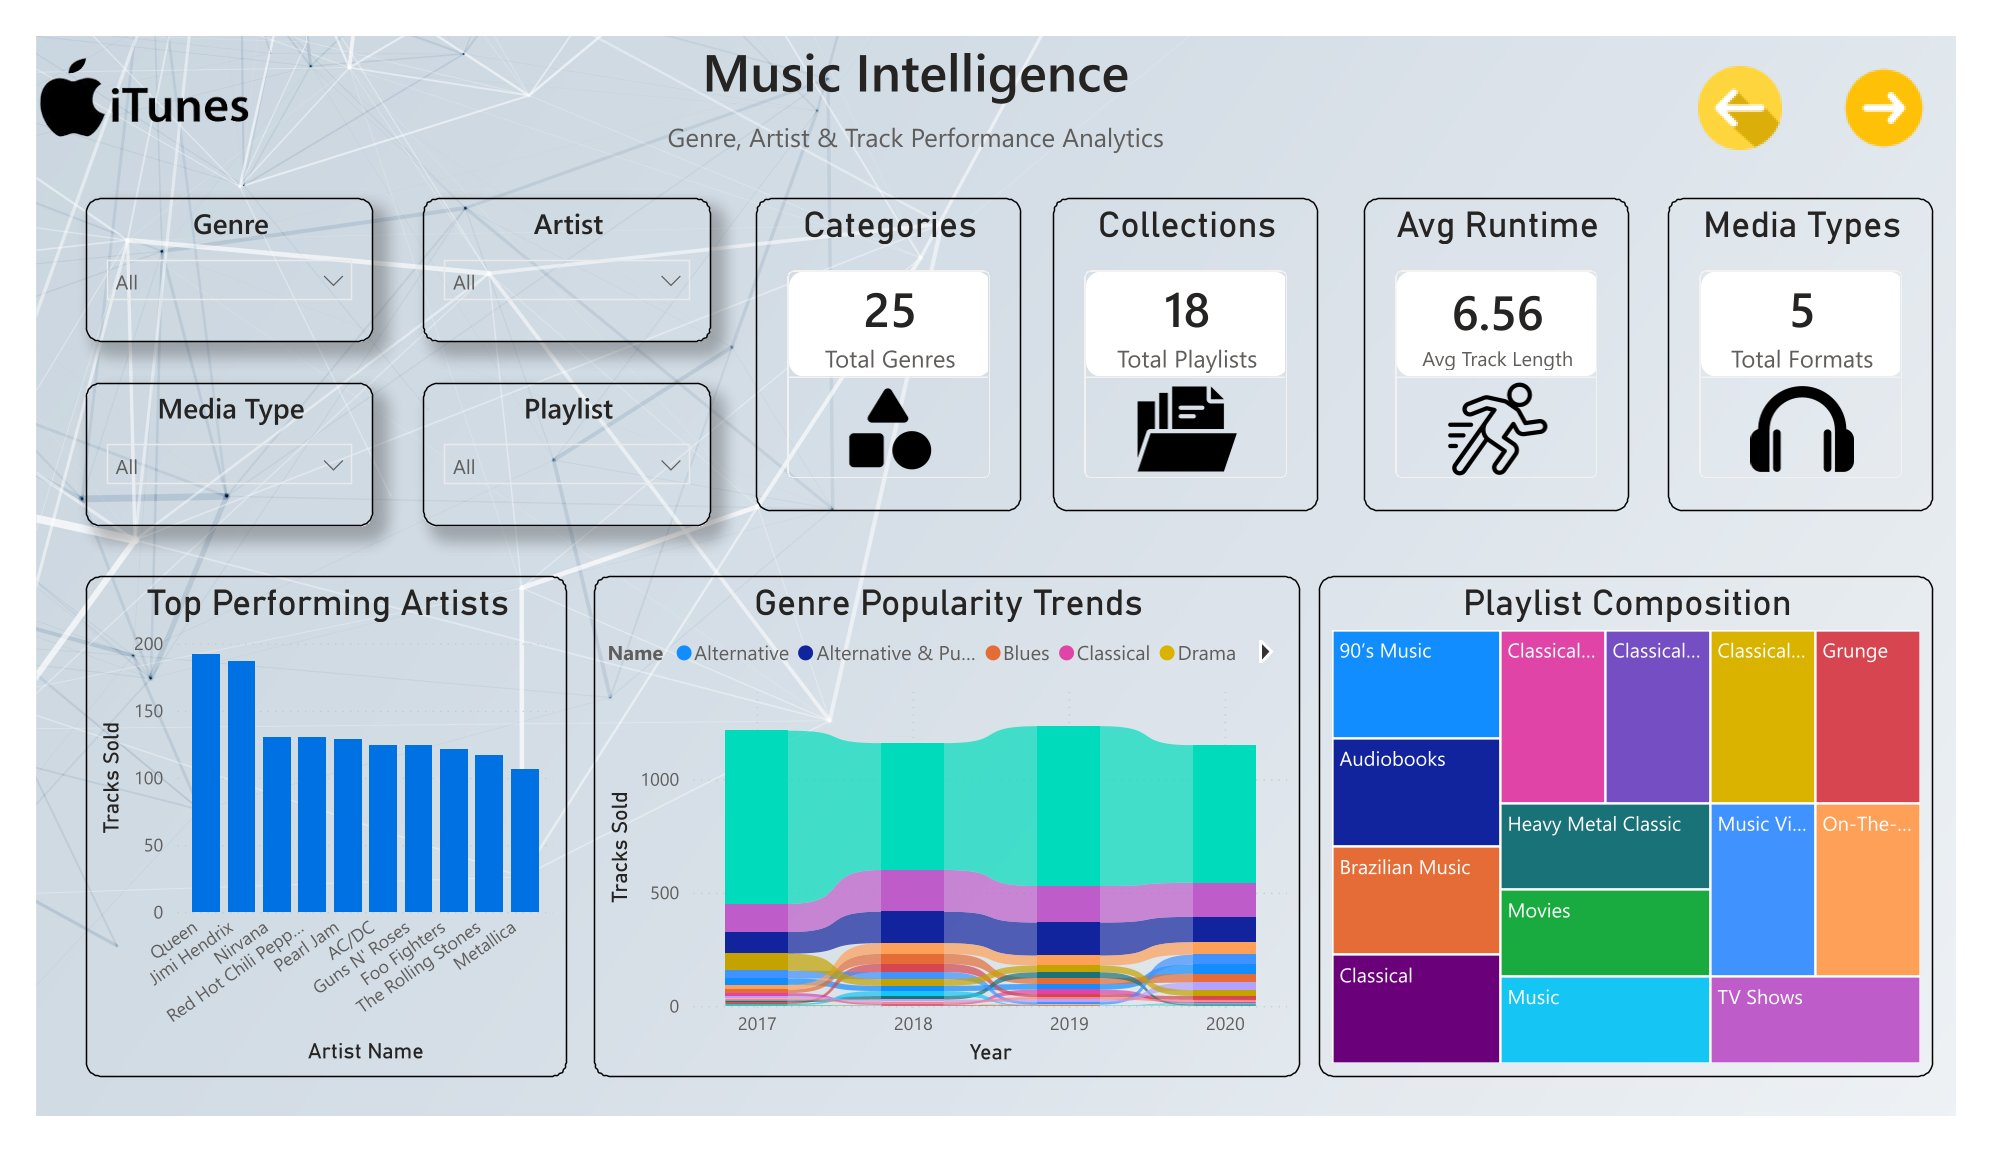

Layout of this report page (visuals, bound fields, positions):
{"tool":"powerbi","page":{"name":"Music Revenue Intelligence","canvas":[1280,720],"ordinal":3},"visuals":[{"type":"image","box":[0,0,1280,720],"z":0},{"type":"image","box":[0,0,144,80],"z":1000},{"type":"actionButton","box":[1184,16,96,64],"z":2000},{"type":"actionButton","box":[1088,16,96,64],"z":3000},{"type":"textbox","title":"Music Intelligence","box":[360.7,0,450.8,80],"z":4000},{"type":"slicer","title":"Genre","fields":{"Values":["media_type.name"]},"box":[32.9,108.4,192.1,96.1],"z":5000},{"type":"slicer","title":"Artist","fields":{"Values":["artist.name"]},"box":[258,108.4,192.1,96.1],"z":6000},{"type":"slicer","title":"Playlist","fields":{"Values":["playlist.name"]},"box":[258,230.5,192.1,96.1],"z":7000},{"type":"slicer","title":"Media Type","fields":{"Values":["media_type.name"]},"box":[32.9,230.5,192.1,96.1],"z":8000},{"type":"cardVisual","title":"Media Types","fields":{"Data":["media_type.Total Formats"]},"box":[1088.2,108.4,177,208.6],"z":9000},{"type":"cardVisual","title":"Categories","fields":{"Data":["genre.Total Genres"]},"box":[480.3,108.4,177,208.6],"z":10000},{"type":"cardVisual","title":"Avg Runtime","fields":{"Data":["track.Avg Track Length"]},"box":[885.1,108.4,177,208.6],"z":11000},{"type":"cardVisual","title":"Collections","fields":{"Data":["playlist.Total Playlists"]},"box":[677.9,108.4,177,208.6],"z":12000},{"type":"clusteredColumnChart","title":"Top Performing Artists","fields":{"Category":["artist.name"],"Y":["invoice_line.Tracks Sold"]},"box":[32.9,359.5,321.1,334.8],"z":13000},{"type":"ribbonChart","title":"Genre Popularity Trends","fields":{"Category":["invoice.invoice_date.Variation.Date Hierarchy.Year","invoice.invoice_date.Variation.Date Hierarchy.Month"],"Y":["invoice_line.Tracks Sold"],"Series":["genre.name"]},"box":[371.9,359.5,470.7,334.8],"z":14000},{"type":"treemap","title":"Playlist Composition","fields":{"Group":["playlist.name"],"Values":["track.Total Tracks"]},"box":[854.9,359.5,410.3,334.8],"z":15000}]}

Visuals, with their boxes in screenshot pixels (x1, y1, x2, y2), scaled from the page's 1280x720 canvas onto the 1992x1152 screenshot:
image: 0, 0, 1991, 1151
image: 0, 0, 224, 128
actionButton: 1843, 26, 1991, 128
actionButton: 1693, 26, 1843, 128
"Music Intelligence" textbox: 561, 0, 1263, 128
"Genre" slicer: 51, 173, 350, 327
"Artist" slicer: 402, 173, 700, 327
"Playlist" slicer: 402, 369, 700, 523
"Media Type" slicer: 51, 369, 350, 523
"Media Types" cardVisual: 1694, 173, 1969, 507
"Categories" cardVisual: 747, 173, 1023, 507
"Avg Runtime" cardVisual: 1377, 173, 1653, 507
"Collections" cardVisual: 1055, 173, 1330, 507
"Top Performing Artists" clusteredColumnChart: 51, 575, 551, 1111
"Genre Popularity Trends" ribbonChart: 579, 575, 1311, 1111
"Playlist Composition" treemap: 1330, 575, 1969, 1111
